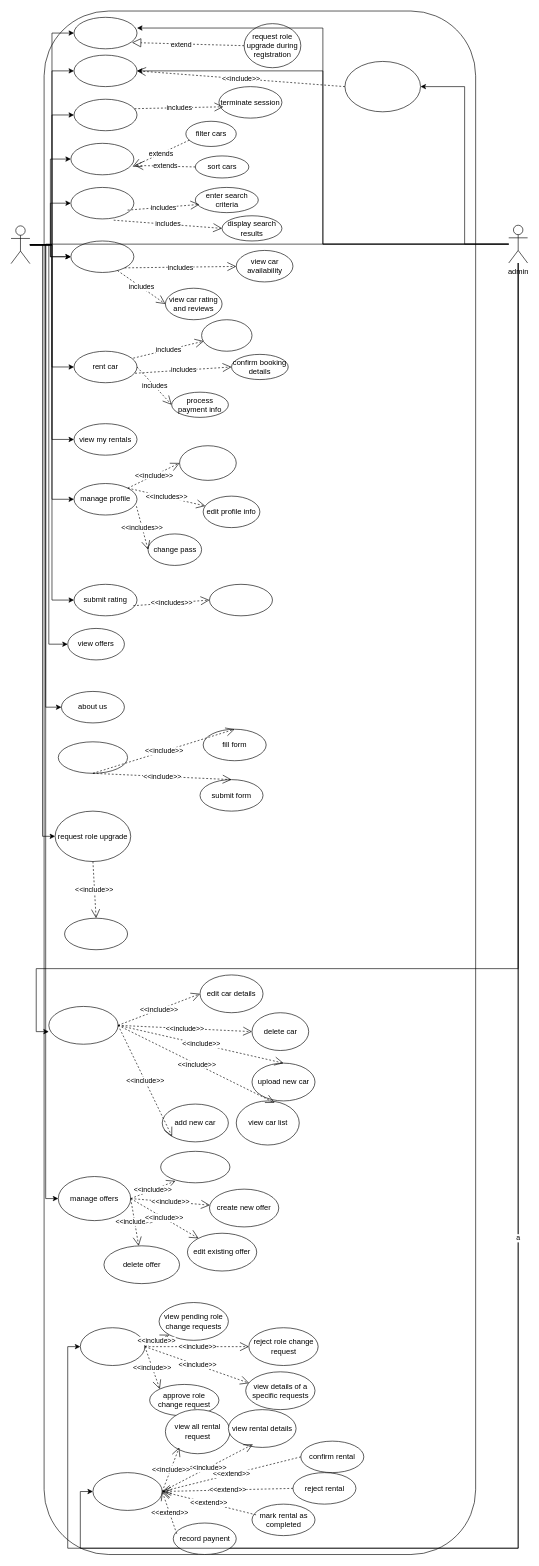
Image size: 539x1566. Some labels were removed from this diagram. The centre of each missing label's shape, as x and y in pixels:
browse cars: (x=102, y=159)
client: (x=20, y=244)
contact us: (x=93, y=757)
enter rating score and comment: (x=240, y=600)
fill role upgrade form: (x=96, y=934)
login: (x=105, y=70)
logout: (x=105, y=115)
manage cars: (x=83, y=1025)
manage rentals: (x=127, y=1491)
register account: (x=105, y=33)
role change request: (x=112, y=1346)
search cars: (x=102, y=203)
select rental dates and times: (x=226, y=335)
view car details: (x=102, y=256)
view offer list: (x=195, y=1167)
view profile info: (x=207, y=462)
view system dashbord: (x=382, y=86)
